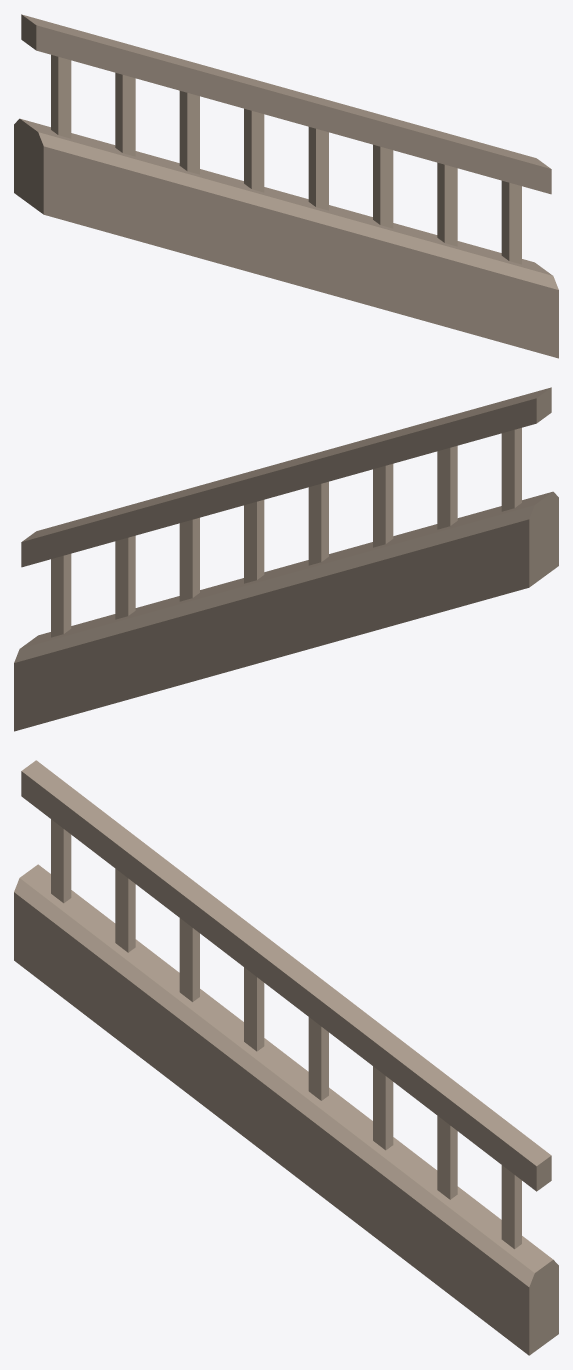
Rendered from Wood_Railing_Stairs.glb.
3 views of the same model, one above another, from view 1: azimuth 30°, elevation 25°; view 2: azimuth 150°, elevation 25°; view 3: azimuth 330°, elevation 25° (orthographic).
Parts seen in each view (by area): view 1: Wood_Railing_Stairs.7, Wood_Railing_Stairs.6, Wood_Railing_Stairs.3, Wood_Railing_Stairs.4, Wood_Railing_Stairs.0, Wood_Railing_Stairs.9, Wood_Railing_Stairs.5, Wood_Railing_Stairs.8, Wood_Railing_Stairs.1, Wood_Railing_Stairs.2; view 2: Wood_Railing_Stairs.7, Wood_Railing_Stairs.6, Wood_Railing_Stairs.3, Wood_Railing_Stairs.4, Wood_Railing_Stairs.0, Wood_Railing_Stairs.9, Wood_Railing_Stairs.5, Wood_Railing_Stairs.8, Wood_Railing_Stairs.1, Wood_Railing_Stairs.2; view 3: Wood_Railing_Stairs.7, Wood_Railing_Stairs.6, Wood_Railing_Stairs.8, Wood_Railing_Stairs.1, Wood_Railing_Stairs.2, Wood_Railing_Stairs.5, Wood_Railing_Stairs.0, Wood_Railing_Stairs.9, Wood_Railing_Stairs.3, Wood_Railing_Stairs.4.
Part boxes in pixels (x1,y1,x2,y2): Wood_Railing_Stairs.7: (14,118,558,358); Wood_Railing_Stairs.6: (21,14,551,194); Wood_Railing_Stairs.3: (373,144,393,228); Wood_Railing_Stairs.4: (51,55,71,138); Wood_Railing_Stairs.0: (437,162,457,246); Wood_Railing_Stairs.9: (244,108,264,192); Wood_Railing_Stairs.5: (115,73,135,156); Wood_Railing_Stairs.8: (501,180,521,264); Wood_Railing_Stairs.1: (179,91,199,174); Wood_Railing_Stairs.2: (308,127,328,210); Wood_Railing_Stairs.7: (14,491,558,731); Wood_Railing_Stairs.6: (21,387,551,567); Wood_Railing_Stairs.3: (179,517,199,601); Wood_Railing_Stairs.4: (501,428,521,511); Wood_Railing_Stairs.0: (115,535,135,619); Wood_Railing_Stairs.9: (308,481,328,565); Wood_Railing_Stairs.5: (437,446,457,529); Wood_Railing_Stairs.8: (51,553,71,637); Wood_Railing_Stairs.1: (373,464,393,547); Wood_Railing_Stairs.2: (244,500,264,583); Wood_Railing_Stairs.7: (14,864,558,1355); Wood_Railing_Stairs.6: (21,760,551,1191); Wood_Railing_Stairs.8: (501,1165,521,1249); Wood_Railing_Stairs.1: (179,918,199,1001); Wood_Railing_Stairs.2: (308,1017,328,1100); Wood_Railing_Stairs.5: (115,868,135,952); Wood_Railing_Stairs.0: (437,1116,457,1199); Wood_Railing_Stairs.9: (244,967,264,1051); Wood_Railing_Stairs.3: (373,1066,393,1150); Wood_Railing_Stairs.4: (51,819,71,903).
Bounding box in the file's own units: 2 × 1.68 × 0.2.
